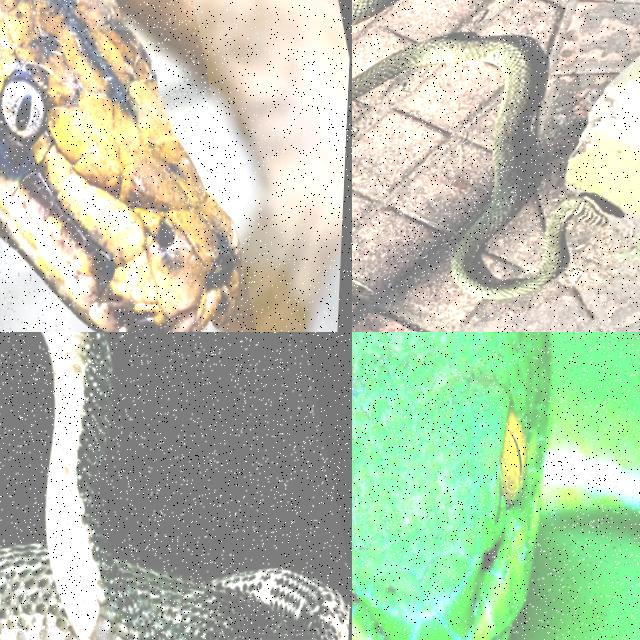Chrysopelea ornata: (352, 38, 607, 299)
Malayopython reticulatus: (0, 0, 242, 331)
Naja siamensis: (0, 332, 349, 639)
Trimeresurus macrops: (352, 332, 639, 639)
